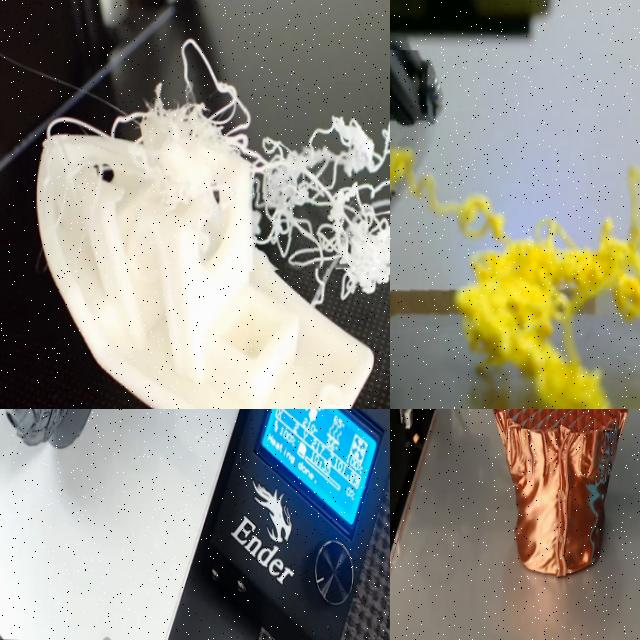spaghetti: (390, 148, 640, 409), (241, 79, 390, 275)
